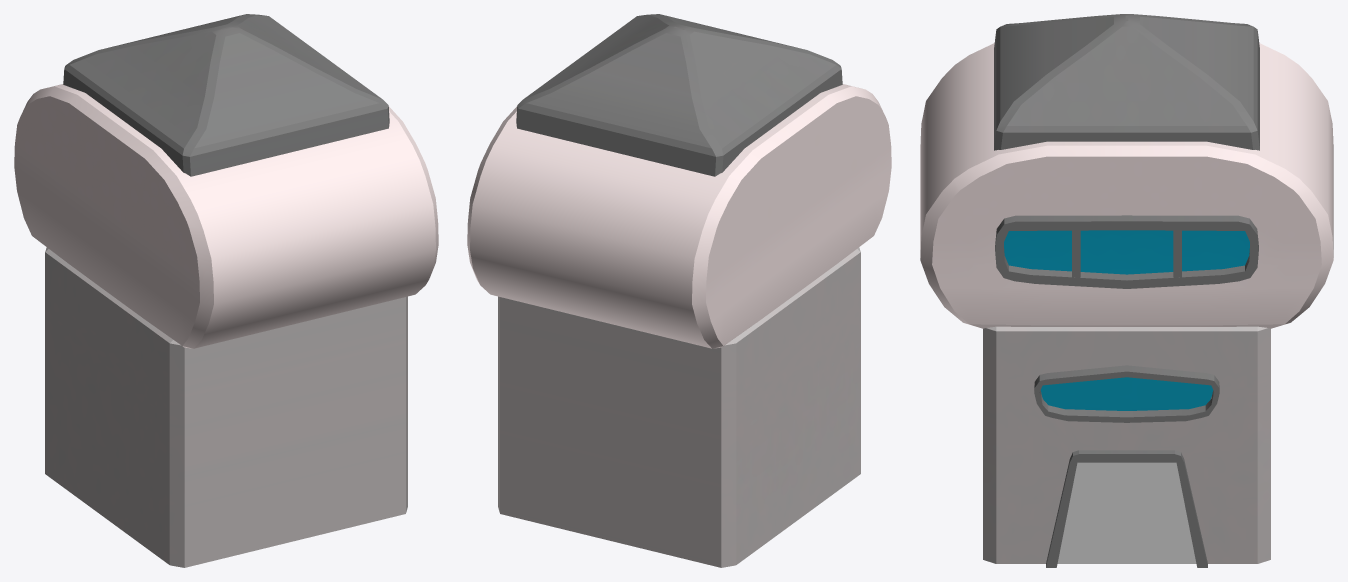
File: casa 2.fbx
3 views of the same model, side by side, from view 1: azimuth 30°, elevation 25°; view 2: azimuth 150°, elevation 25°; view 3: azimuth 270°, elevation 25° (orthographic). The views are drawn at different scales.
Parts seen in each view (by area): view 1: Cube.007, Cube.003; view 2: Cube.007, Cube.003; view 3: Cube.007, Cube.003, Cube.006, Cube.012.
Boxes of the visible parts, x1,y1,x2,y2 form: Cube.007: (14, 14, 438, 348); Cube.003: (45, 247, 407, 567); Cube.007: (467, 14, 891, 348); Cube.003: (498, 247, 860, 567); Cube.007: (920, 14, 1333, 422); Cube.003: (983, 326, 1270, 563); Cube.006: (1057, 462, 1196, 563); Cube.012: (1046, 450, 1207, 567).
Size of the model in its own units: 669 by 1174 by 907.
2 materials, 1 textured.
